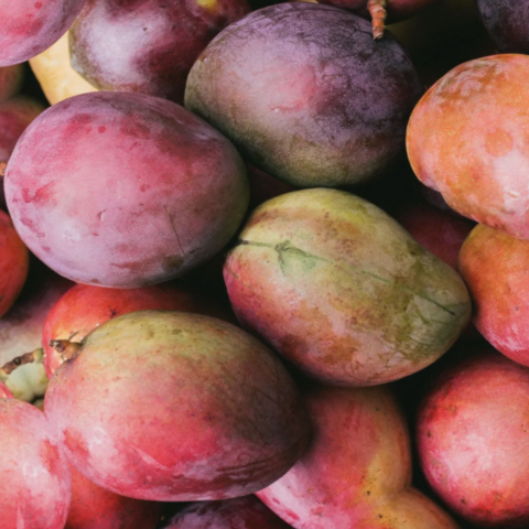mango: (182, 119, 494, 460), (8, 231, 353, 529), (0, 33, 280, 348), (151, 0, 459, 250)
